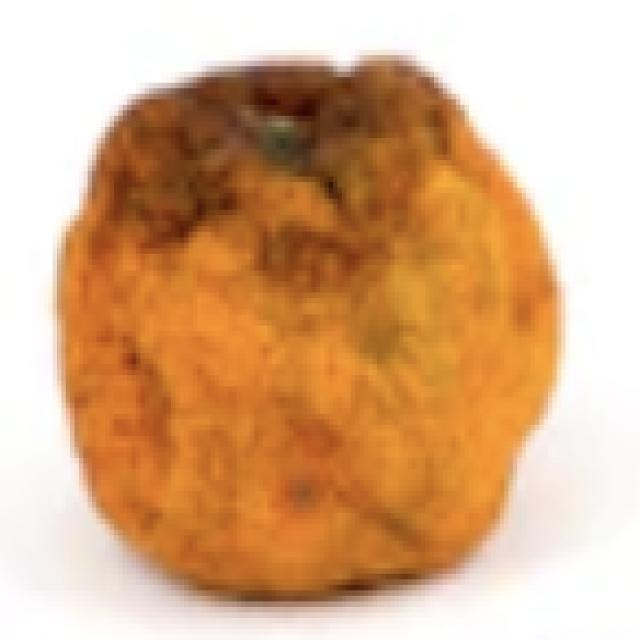rotten-orange: (60, 58, 570, 588)
